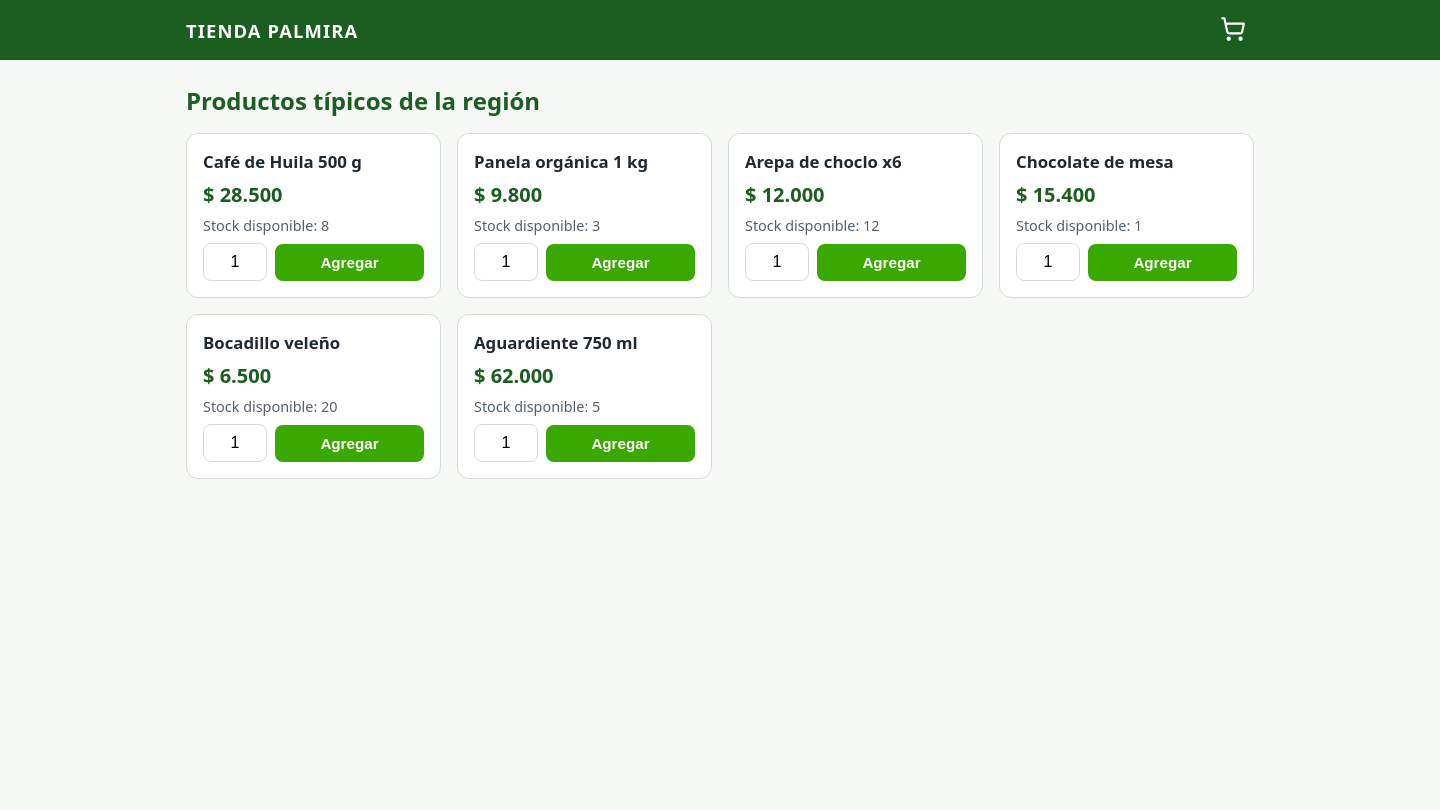
it: Casos de prueba del instructor › 7. En el carrito, + con cantidad igual al stock no sube y muestra el toast
The image size is (1440, 810).
Replace the text in the number field named "Cantidad a agregar de Panela orgánica 1 kg" with "3" at (506, 262), box [474,243,538,281]
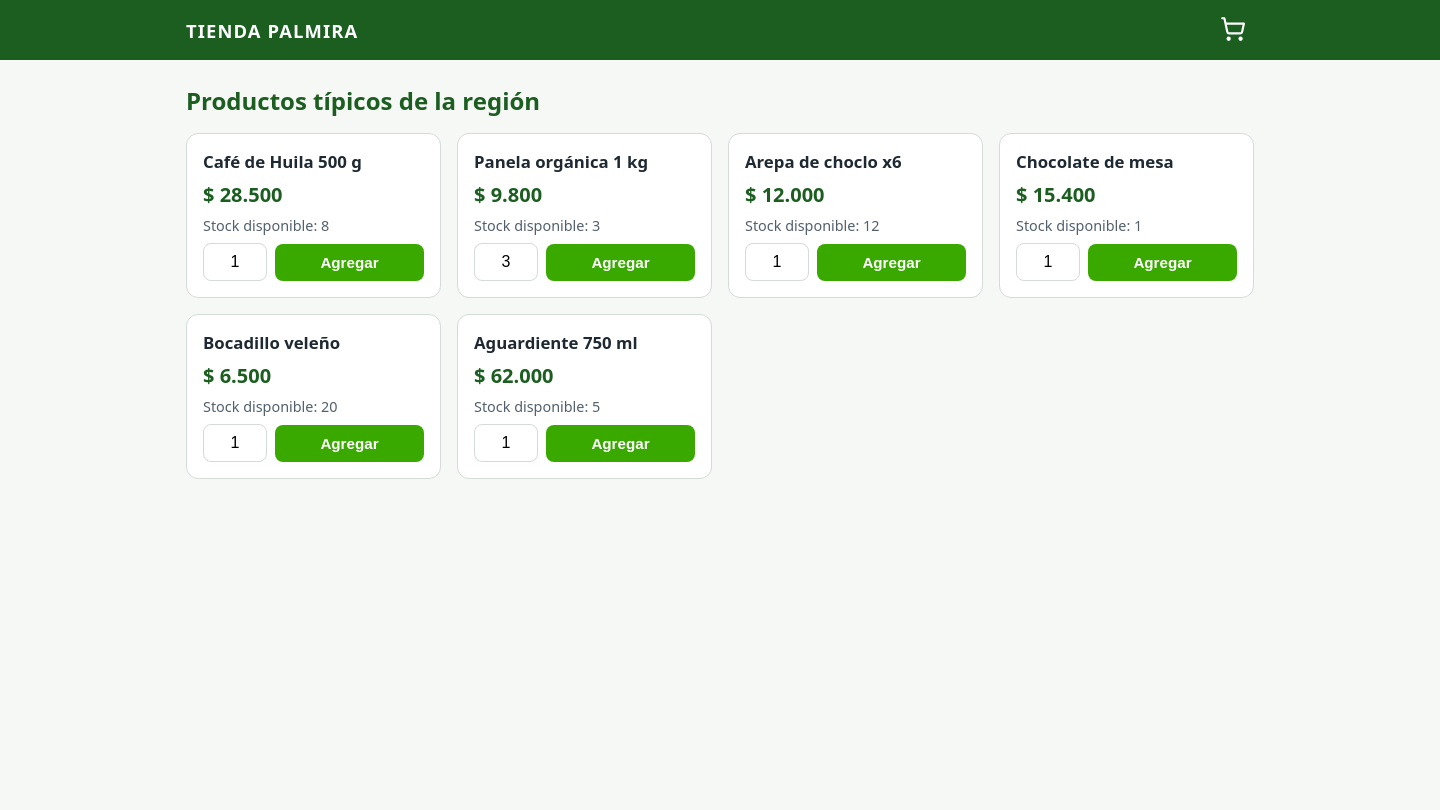
Click the button "Agregar" below "Stock disponible: 3" at (620, 262), box [546,244,695,280]
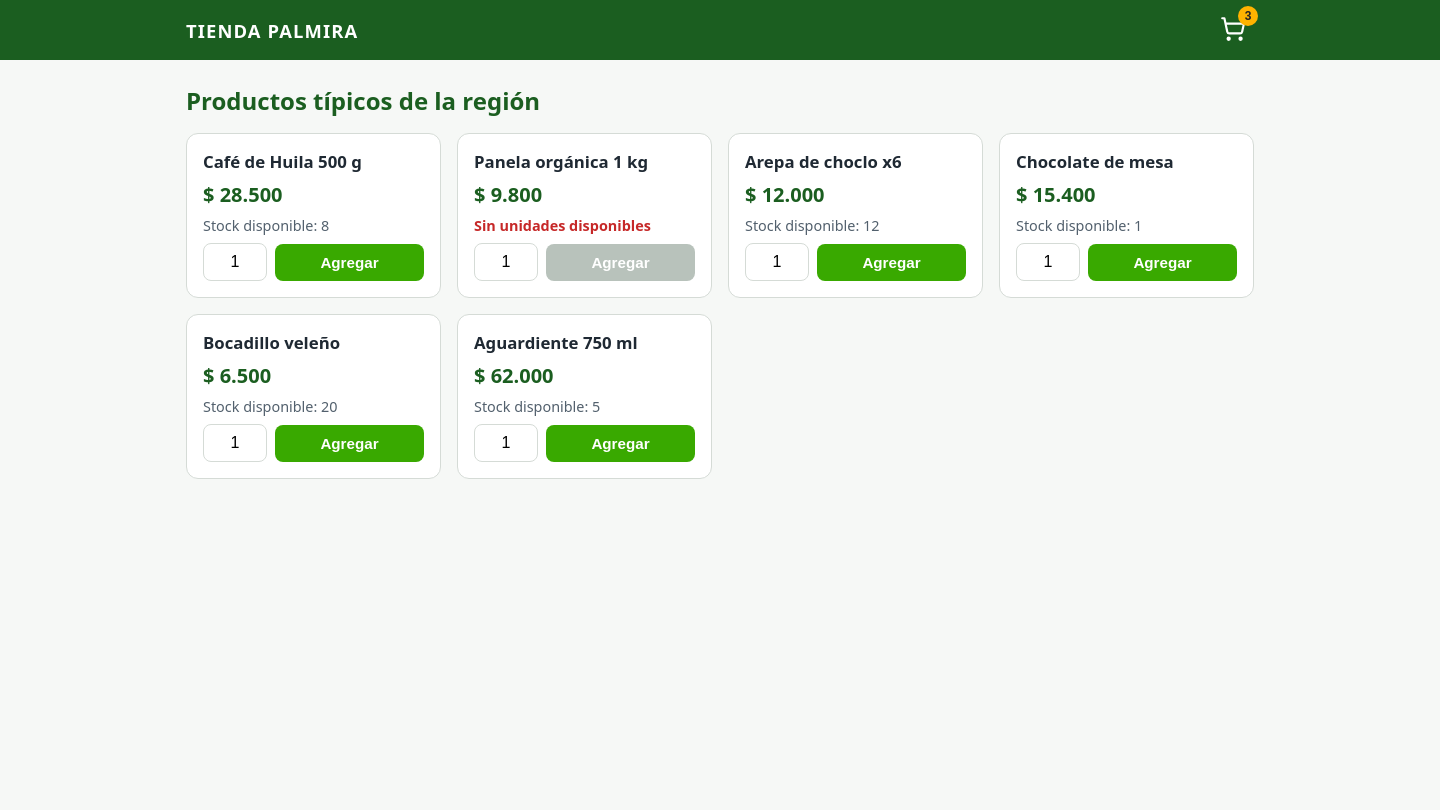
Click the button named "abrir carrito" at (1233, 30), box [1212,8,1254,52]
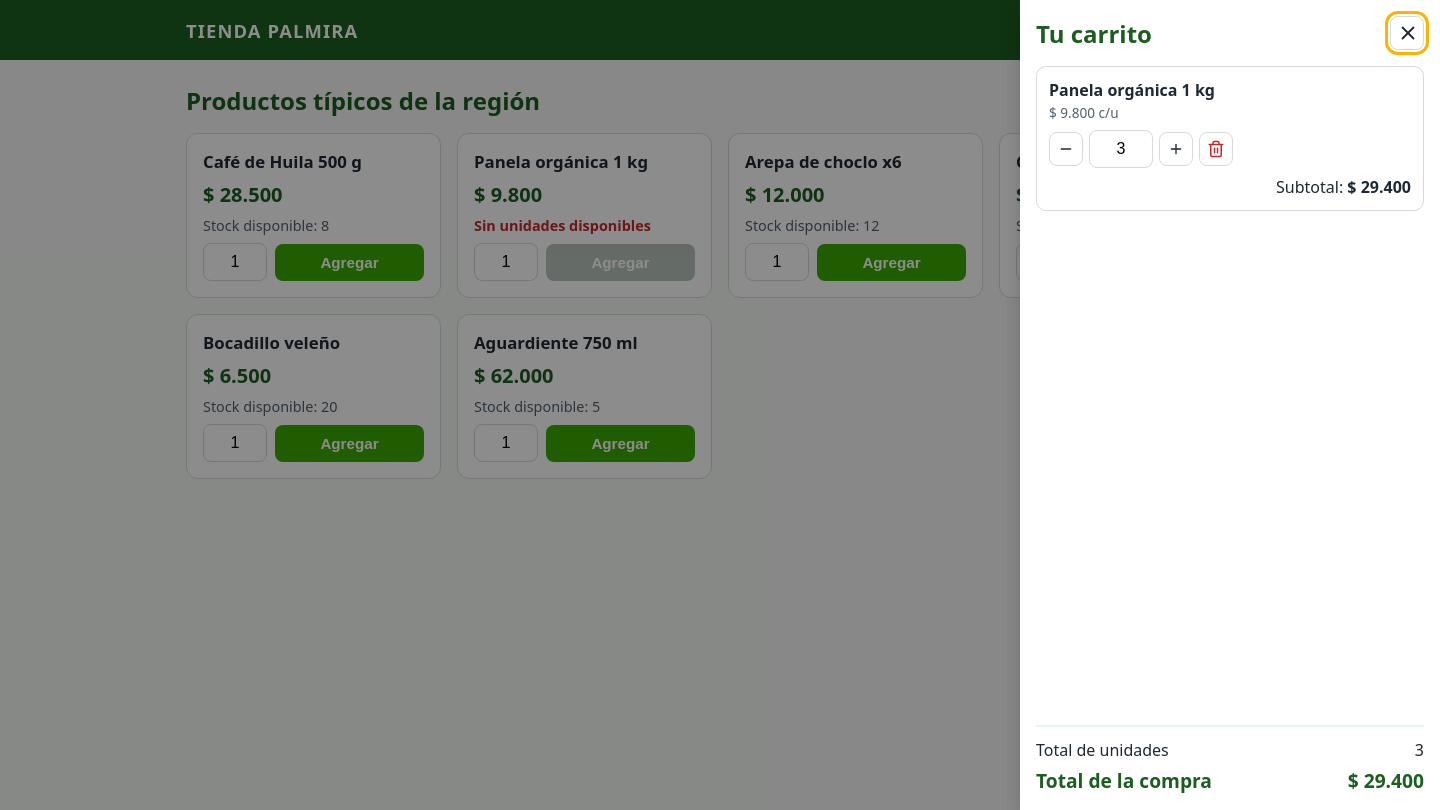
Click the button named "Aumentar cantidad de Panela orgánica 1 kg" at (1176, 149), box [1159,132,1193,166]
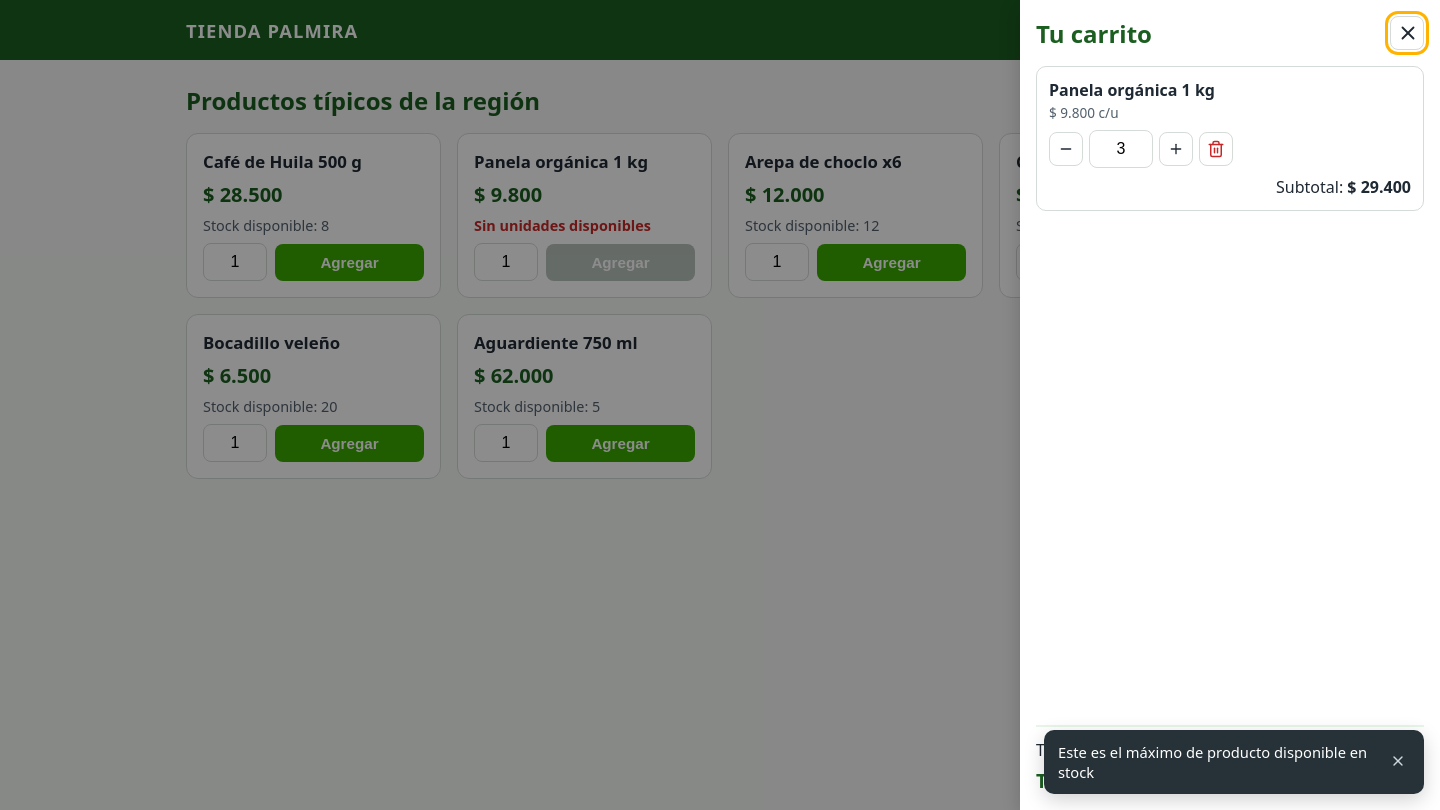
Expected: the text "Este es el máximo de producto disponible en stock" is shown, [1058,742,1376,782]
